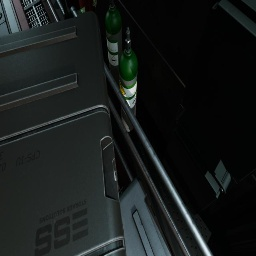0: (119, 27, 138, 132), (105, 0, 122, 89)
NitrogenTank ,: (66, 0, 90, 18), (88, 0, 95, 13)
